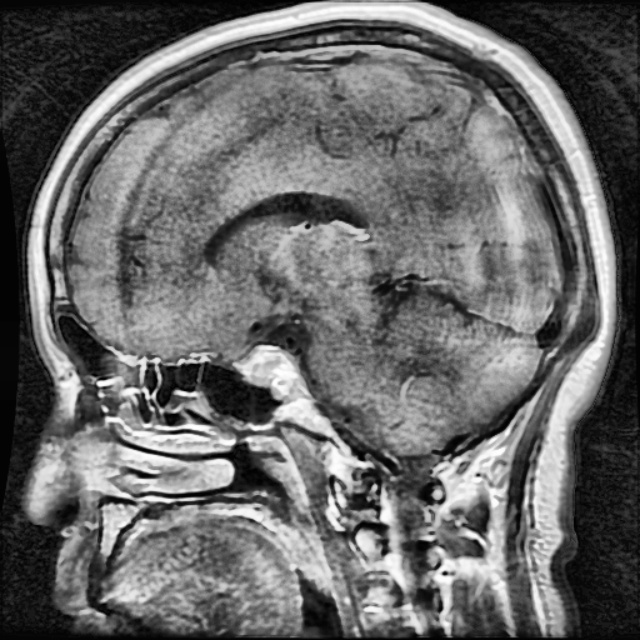Pituitary: (237, 343, 295, 399)
